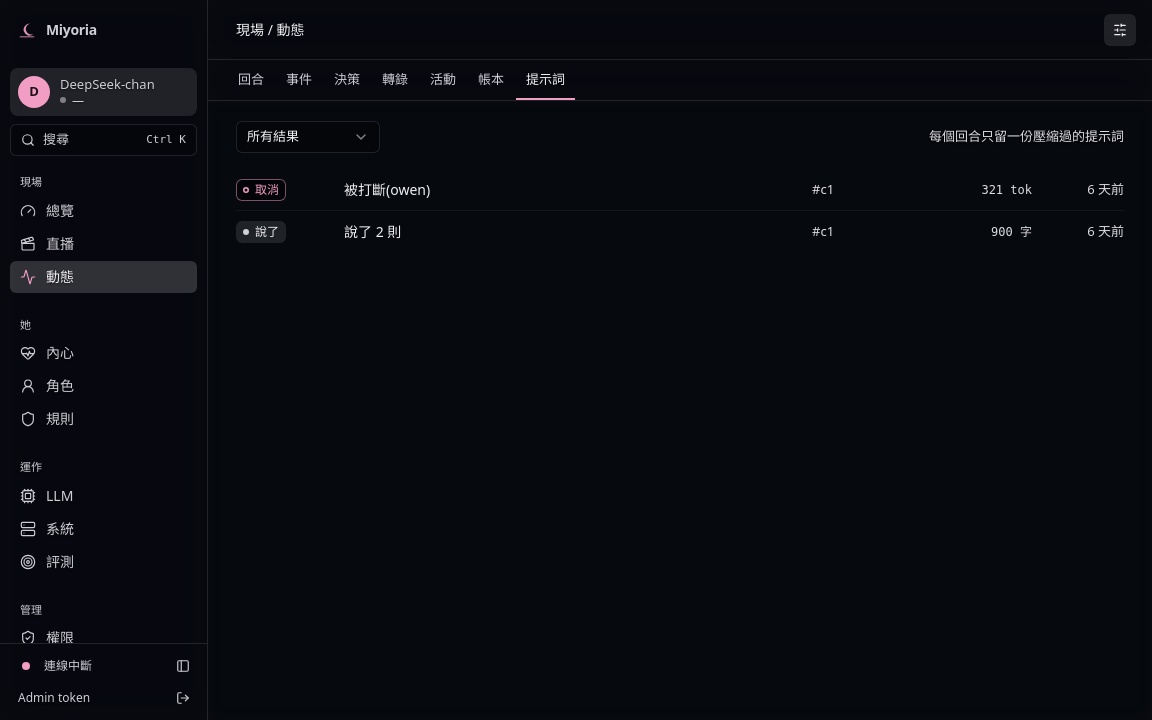
Test: Activity: the prompt of each turn › lists the turns with how they ended and opens the prompt next to the outcome
Expected: the text "說了 2 則" is shown, x1=344 y1=222 x2=401 y2=240
Expected: the text "321 tok" is shown, x1=981 y1=182 x2=1032 y2=196
Click the text "被打斷(owen)".
click(387, 189)  # box x1=344 y1=180 x2=430 y2=198
(page scrolled)
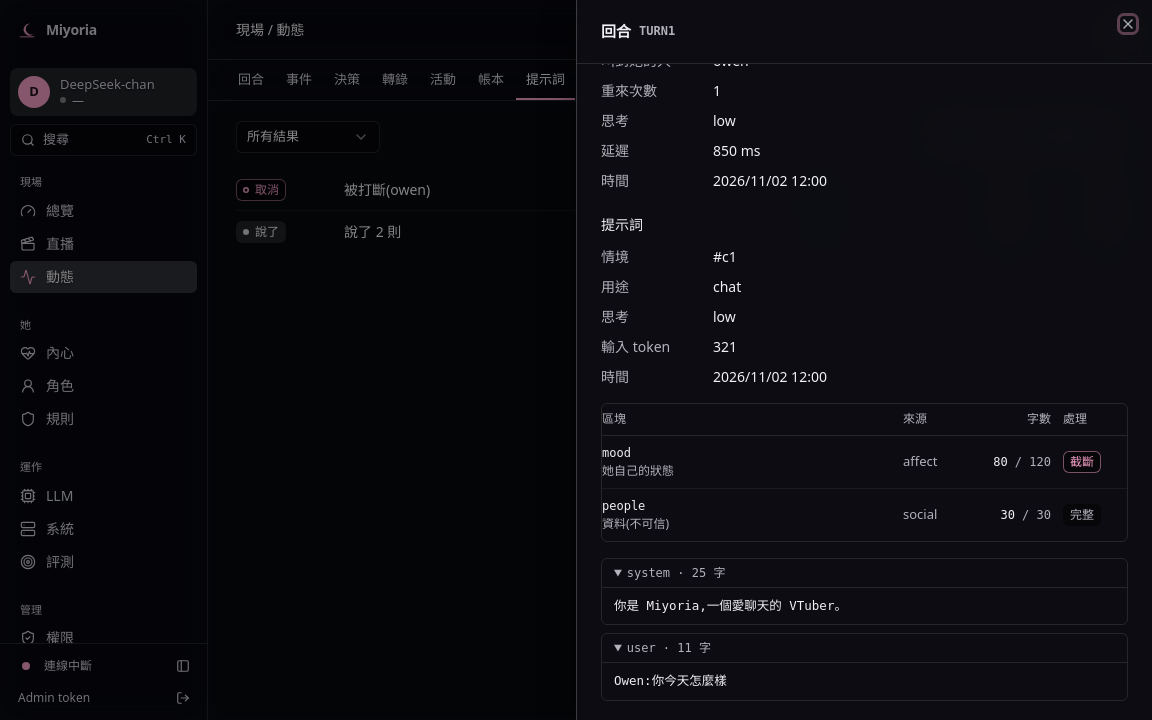
Result: the text "850 ms" is shown at x1=713 y1=140 x2=760 y2=160
Result: the text "mood" is shown at x1=602 y1=446 x2=631 y2=460
Result: the text "截斷" is shown at x1=1063 y1=451 x2=1101 y2=473
